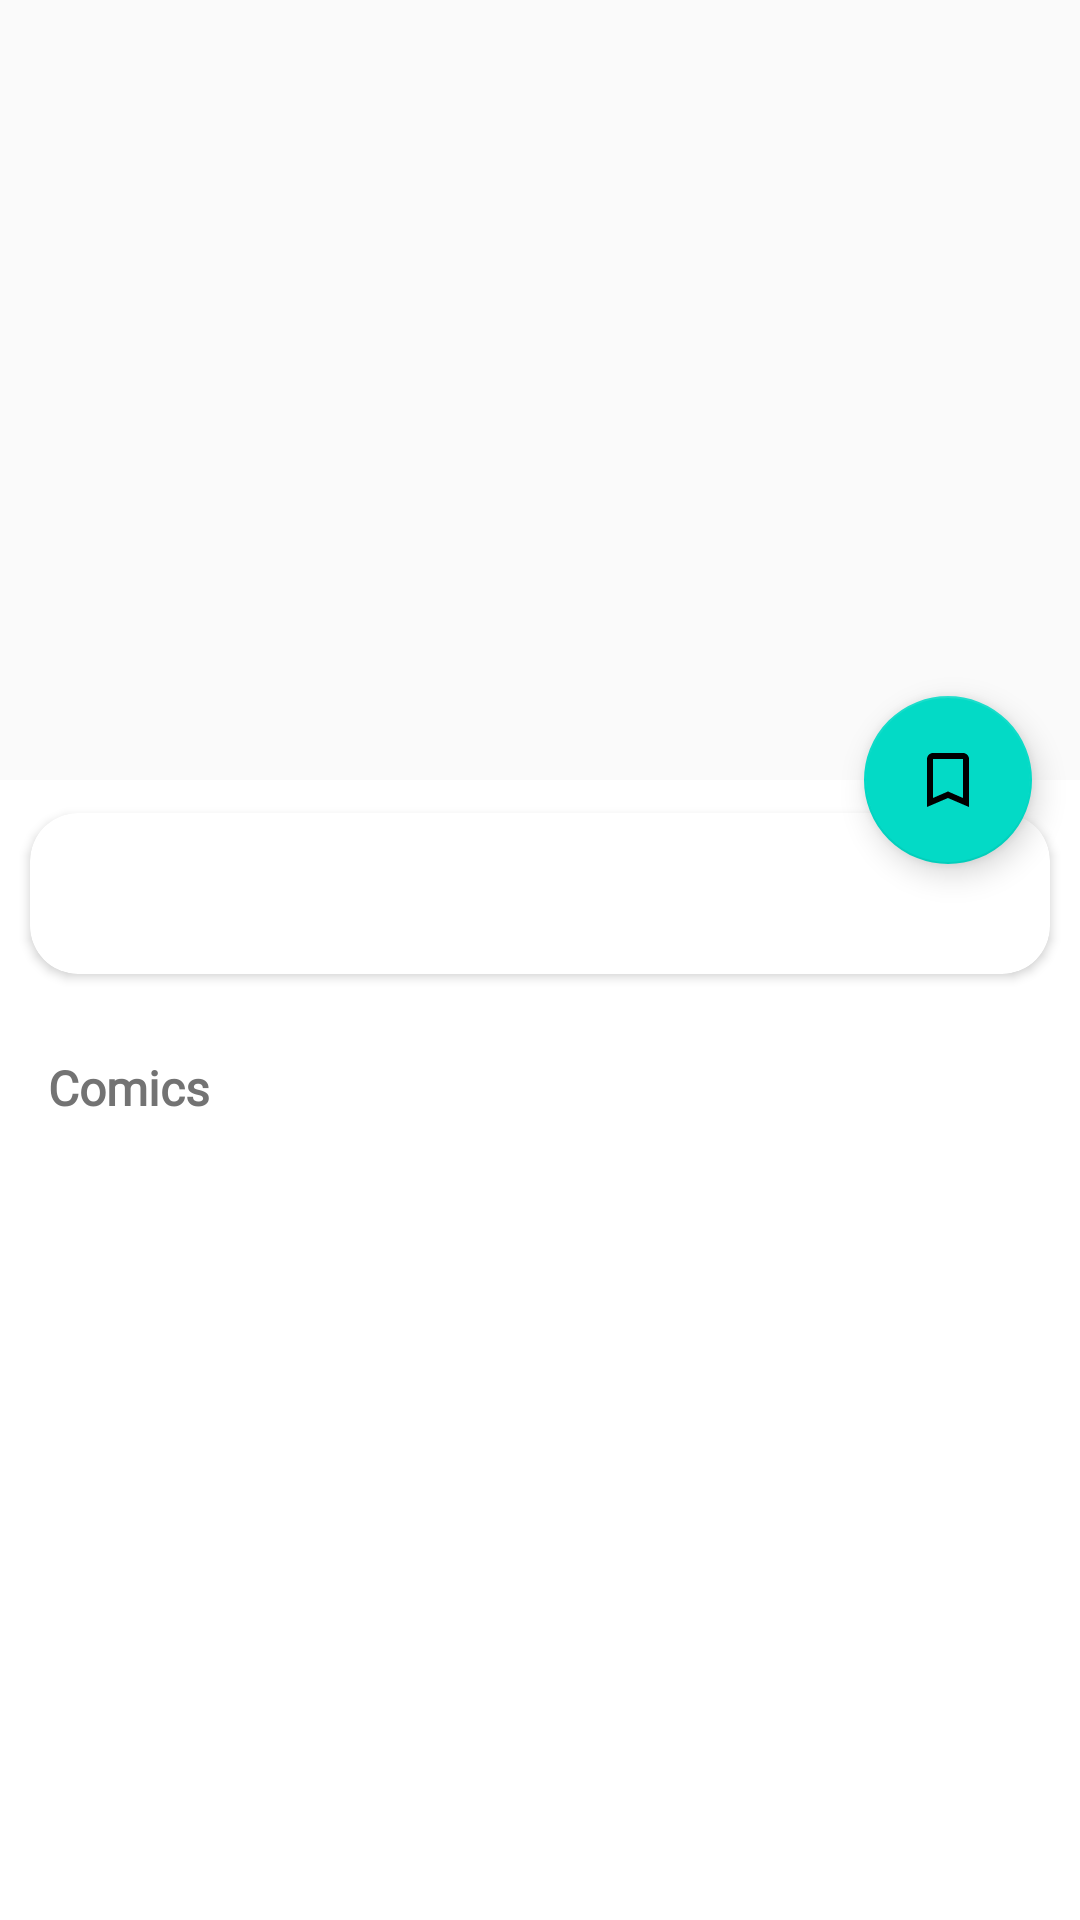

Icons on this 1080w x 1920h Android screen, each with its box as bbox=(x1, y1, x2, y2):
bookmark border: bbox=(864, 696, 1032, 864)
